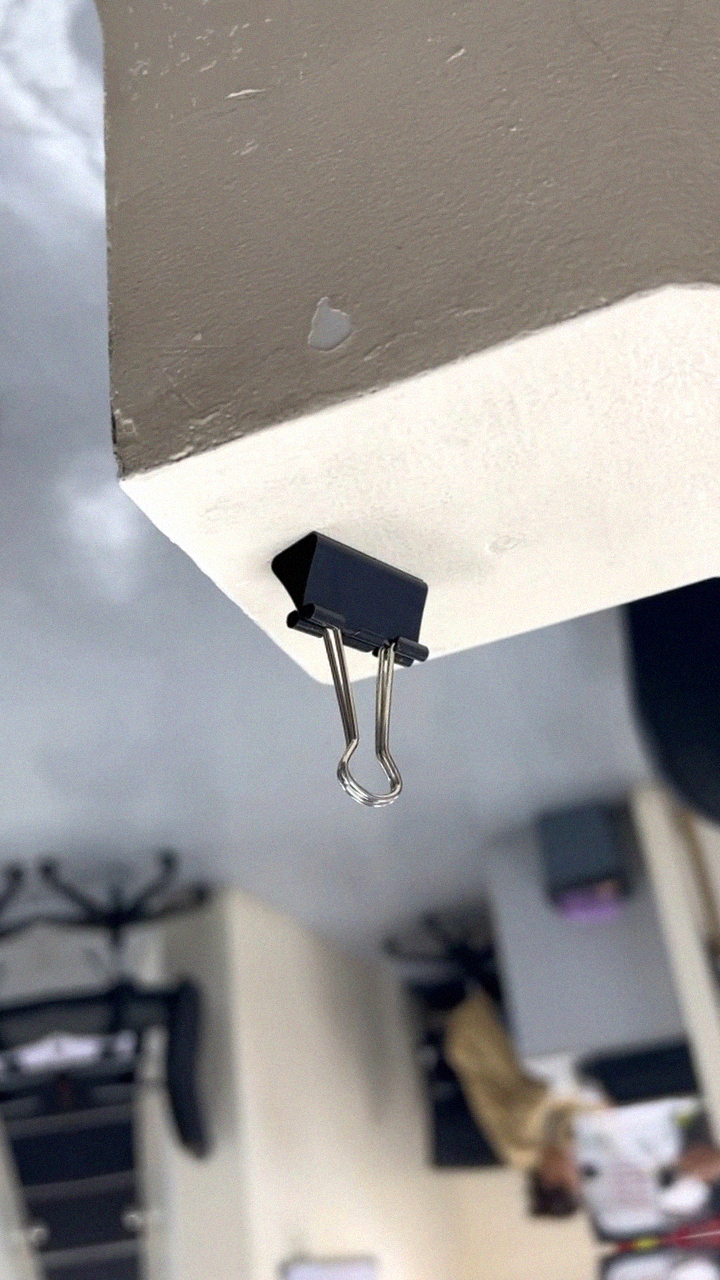kep_giay: (258, 509, 471, 820)
